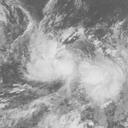cyclone: (21, 29, 122, 105)
